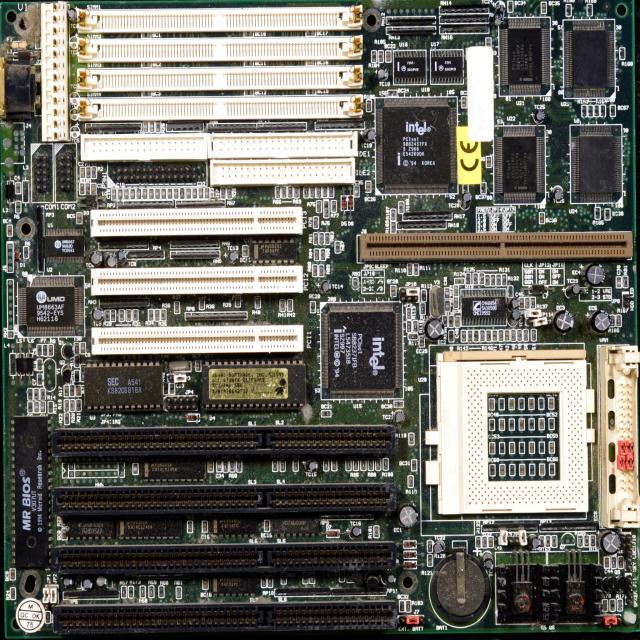Capacitor: (216, 457, 221, 472), (419, 334, 425, 346), (75, 384, 81, 396), (202, 520, 208, 532), (204, 187, 210, 199), (166, 188, 172, 200), (154, 188, 160, 200), (129, 188, 135, 200), (615, 276, 621, 288), (208, 457, 213, 471), (170, 382, 176, 393), (160, 189, 166, 200), (518, 297, 524, 308), (461, 329, 466, 342), (488, 536, 493, 548), (91, 182, 96, 194), (136, 188, 141, 200), (148, 188, 153, 200), (80, 167, 85, 178), (173, 188, 178, 199), (455, 316, 460, 327), (504, 330, 509, 340), (124, 188, 128, 200), (142, 188, 146, 200), (525, 297, 529, 309), (605, 557, 609, 568), (16, 182, 20, 193), (354, 186, 358, 197), (180, 188, 184, 199), (118, 189, 122, 200), (186, 188, 190, 198), (198, 188, 202, 198), (192, 188, 196, 198)
Connector: (599, 344, 640, 528), (357, 233, 636, 260), (72, 98, 366, 121), (70, 7, 362, 30), (76, 66, 365, 88), (71, 37, 363, 58), (55, 428, 260, 456), (91, 327, 303, 353), (55, 486, 263, 512), (58, 546, 264, 572), (90, 267, 304, 292), (54, 605, 266, 630), (90, 209, 302, 233), (78, 132, 212, 163), (41, 3, 69, 141), (209, 160, 354, 186), (212, 132, 356, 158), (266, 486, 394, 512), (264, 428, 396, 453), (268, 544, 399, 568), (267, 602, 395, 626), (111, 164, 205, 182)
IC: (428, 342, 598, 520), (375, 99, 457, 195), (322, 306, 401, 398), (10, 415, 52, 574), (18, 274, 86, 338), (497, 17, 551, 96), (562, 22, 616, 101), (570, 124, 622, 205), (496, 126, 546, 202), (460, 287, 509, 326), (46, 228, 86, 264), (141, 460, 206, 481), (248, 239, 298, 263), (64, 516, 114, 539), (393, 51, 426, 84), (430, 51, 462, 82), (272, 518, 320, 536), (213, 520, 257, 538)
Resistor Network: (120, 584, 126, 598), (408, 332, 418, 340), (360, 456, 366, 469), (229, 459, 235, 472), (427, 553, 433, 566), (581, 104, 587, 117), (615, 314, 621, 327), (522, 329, 528, 341), (76, 400, 82, 412), (27, 401, 33, 413), (39, 402, 45, 414), (375, 457, 381, 469), (383, 458, 389, 470), (272, 458, 278, 470), (590, 535, 596, 547), (618, 556, 624, 568), (603, 598, 609, 610), (293, 186, 299, 198), (220, 186, 226, 198), (226, 188, 232, 200), (330, 200, 336, 212), (398, 201, 404, 213), (334, 242, 340, 254), (312, 264, 318, 276), (622, 276, 628, 288), (421, 290, 427, 302), (530, 296, 536, 308), (280, 300, 286, 312), (406, 306, 412, 318), (110, 310, 116, 322), (420, 302, 425, 316), (328, 187, 334, 198), (318, 265, 324, 276), (474, 329, 479, 342), (353, 457, 358, 470), (237, 459, 242, 472), (408, 475, 413, 488), (79, 183, 84, 196), (322, 185, 327, 198), (595, 206, 600, 219), (313, 232, 318, 245), (24, 246, 29, 259), (119, 309, 124, 322), (510, 330, 516, 340), (70, 384, 75, 396), (28, 388, 33, 400), (35, 389, 40, 401), (41, 389, 46, 401), (64, 399, 69, 411), (70, 399, 75, 411), (64, 413, 69, 425), (346, 458, 351, 470), (293, 458, 298, 470), (61, 516, 67, 526), (578, 535, 583, 547), (584, 535, 589, 547), (611, 557, 617, 567), (140, 586, 145, 598), (128, 586, 133, 598), (617, 598, 622, 610), (406, 600, 411, 612), (587, 5, 593, 15), (287, 186, 292, 198), (309, 188, 315, 198), (16, 201, 21, 213), (391, 208, 396, 220), (391, 221, 396, 233), (320, 249, 325, 261), (495, 274, 501, 284), (353, 278, 358, 290), (444, 287, 449, 299), (255, 296, 260, 308), (444, 301, 450, 311), (174, 301, 179, 313), (154, 308, 159, 320), (126, 309, 131, 321), (133, 309, 138, 321), (105, 309, 110, 321), (609, 315, 614, 327), (413, 320, 418, 332), (324, 456, 328, 470), (467, 330, 472, 341), (539, 535, 544, 546), (588, 105, 593, 116), (600, 106, 605, 117), (275, 187, 280, 198), (407, 264, 412, 275), (479, 273, 484, 284), (235, 295, 240, 306), (442, 316, 447, 327), (480, 329, 484, 342), (486, 329, 490, 342), (594, 105, 598, 118), (320, 232, 324, 245), (325, 232, 329, 245), (498, 330, 503, 340), (531, 330, 536, 340), (48, 402, 53, 412), (545, 536, 550, 546), (454, 278, 464, 283), (161, 310, 166, 320), (34, 400, 38, 412), (332, 458, 336, 470), (369, 458, 373, 470), (281, 459, 285, 471), (222, 459, 226, 471), (482, 536, 486, 548), (372, 51, 376, 63), (159, 584, 163, 596), (150, 586, 154, 598), (611, 598, 615, 610), (86, 166, 90, 178), (282, 186, 286, 198), (316, 186, 320, 198), (317, 200, 321, 212), (324, 207, 328, 219), (314, 216, 318, 228), (485, 274, 489, 286), (454, 284, 458, 296), (149, 309, 153, 321), (407, 320, 411, 332), (517, 330, 521, 341), (164, 383, 168, 394), (64, 386, 68, 397), (409, 433, 413, 444), (374, 526, 378, 537), (552, 535, 556, 546), (476, 536, 480, 547), (379, 51, 383, 62), (566, 5, 570, 16), (86, 183, 90, 194), (304, 186, 308, 197), (314, 249, 318, 260), (414, 263, 418, 274), (466, 273, 470, 284), (473, 273, 477, 284), (502, 274, 506, 285), (200, 298, 204, 309), (288, 300, 292, 311), (449, 316, 453, 327), (177, 587, 181, 597), (92, 167, 96, 177), (111, 189, 115, 199), (490, 275, 494, 285), (487, 39, 491, 48), (493, 330, 496, 340)
iC: (201, 359, 306, 411), (84, 365, 164, 412), (118, 517, 183, 539)
